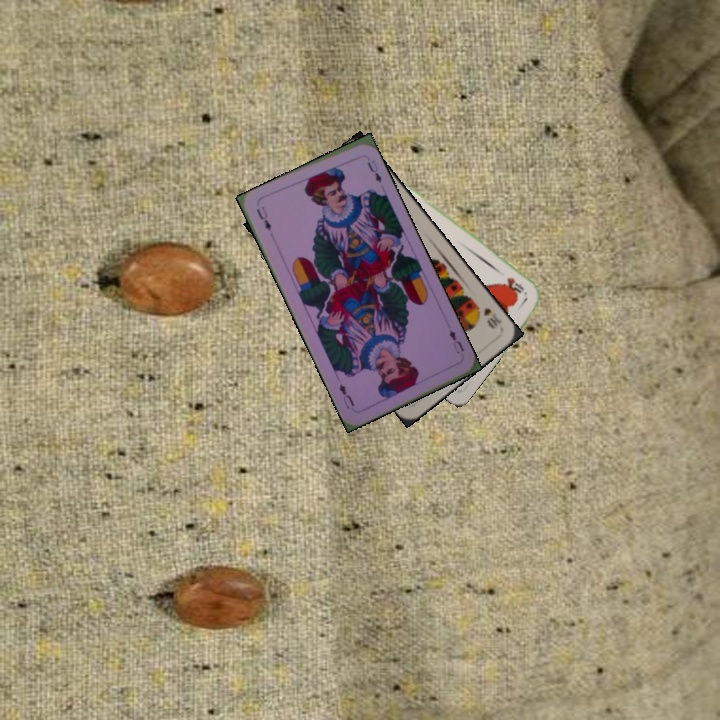EU: (252, 202, 274, 233), (445, 326, 467, 356)
HO: (499, 273, 527, 296)
S10: (479, 303, 504, 331)
